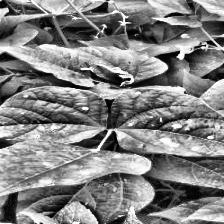Bean Rust: (0, 146, 150, 206), (113, 88, 224, 154), (0, 90, 109, 142)
